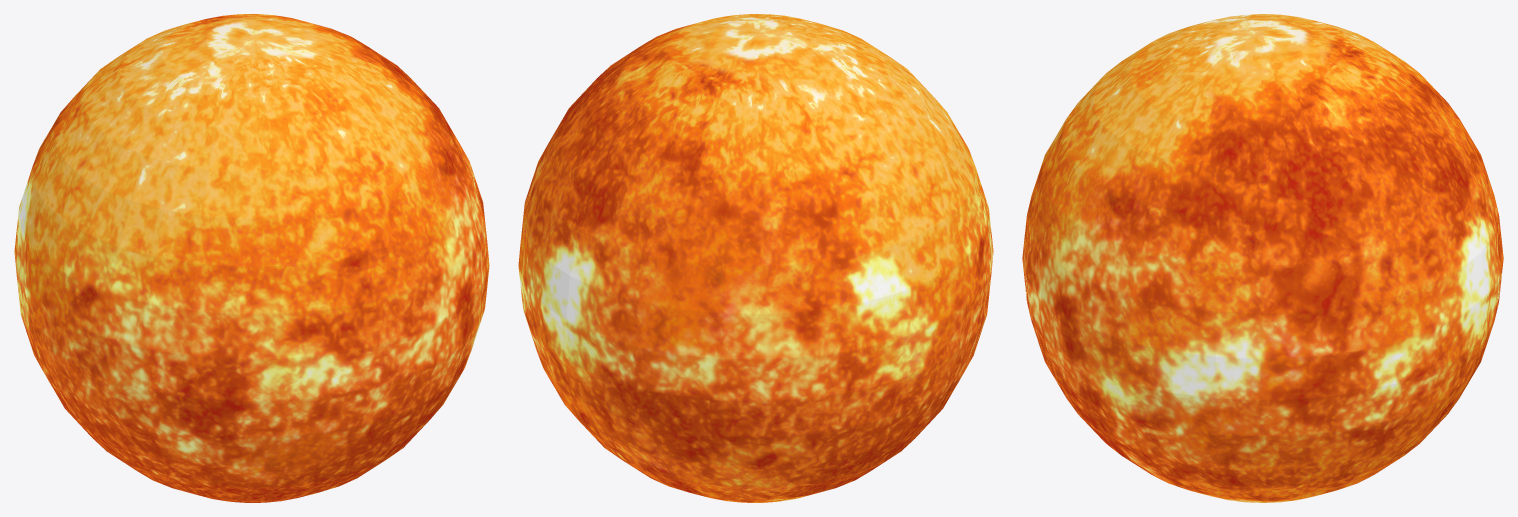
File: sun.glb
The picture shows the model from 3 angles, left to right: view 1: azimuth 30°, elevation 25°; view 2: azimuth 150°, elevation 25°; view 3: azimuth 270°, elevation 25°; orthographic projection.
Visible parts, largest first — view 1: Object_8; view 2: Object_8; view 3: Object_8.
Boxes of the visible parts, x1=… form: Object_8: x1=14, y1=14, x2=489, y2=502; Object_8: x1=518, y1=14, x2=993, y2=502; Object_8: x1=1022, y1=14, x2=1503, y2=502.
Size of the model in its own units: 102 by 106 by 103.
Materials: 1 (1 with a texture image).
